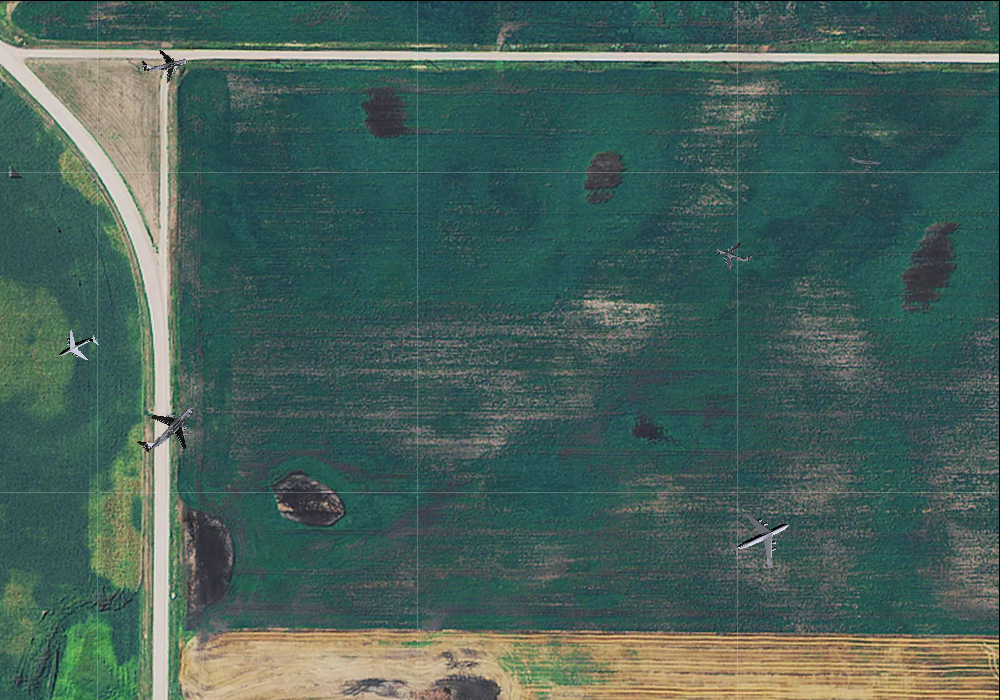plane: (123, 383, 212, 472), (719, 497, 801, 577), (137, 37, 193, 89), (50, 320, 104, 373), (710, 231, 757, 277), (847, 143, 883, 177)
